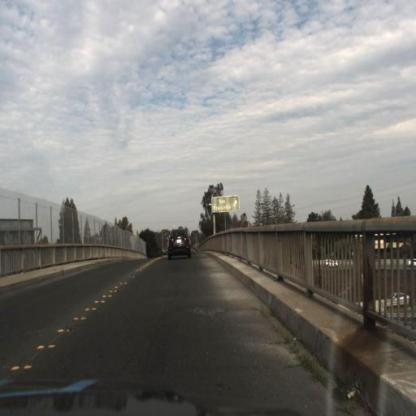car: (162, 220, 193, 262), (320, 254, 342, 277), (388, 287, 408, 309)
